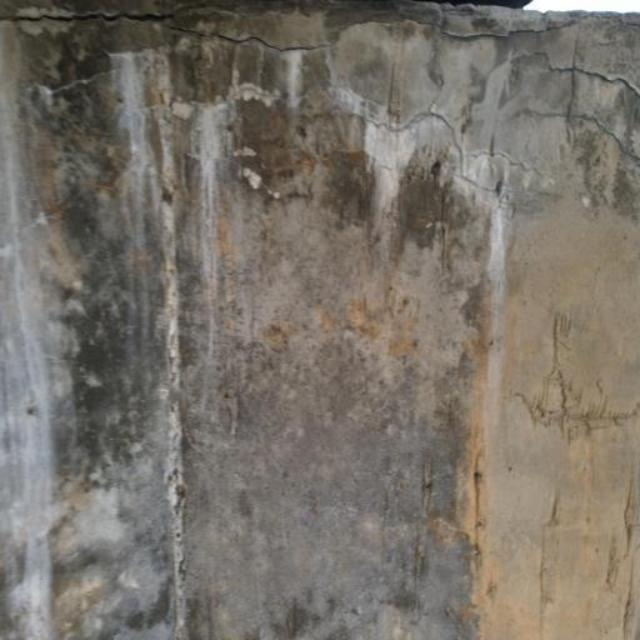D01: (114, 50, 189, 639), (2, 30, 67, 639)
